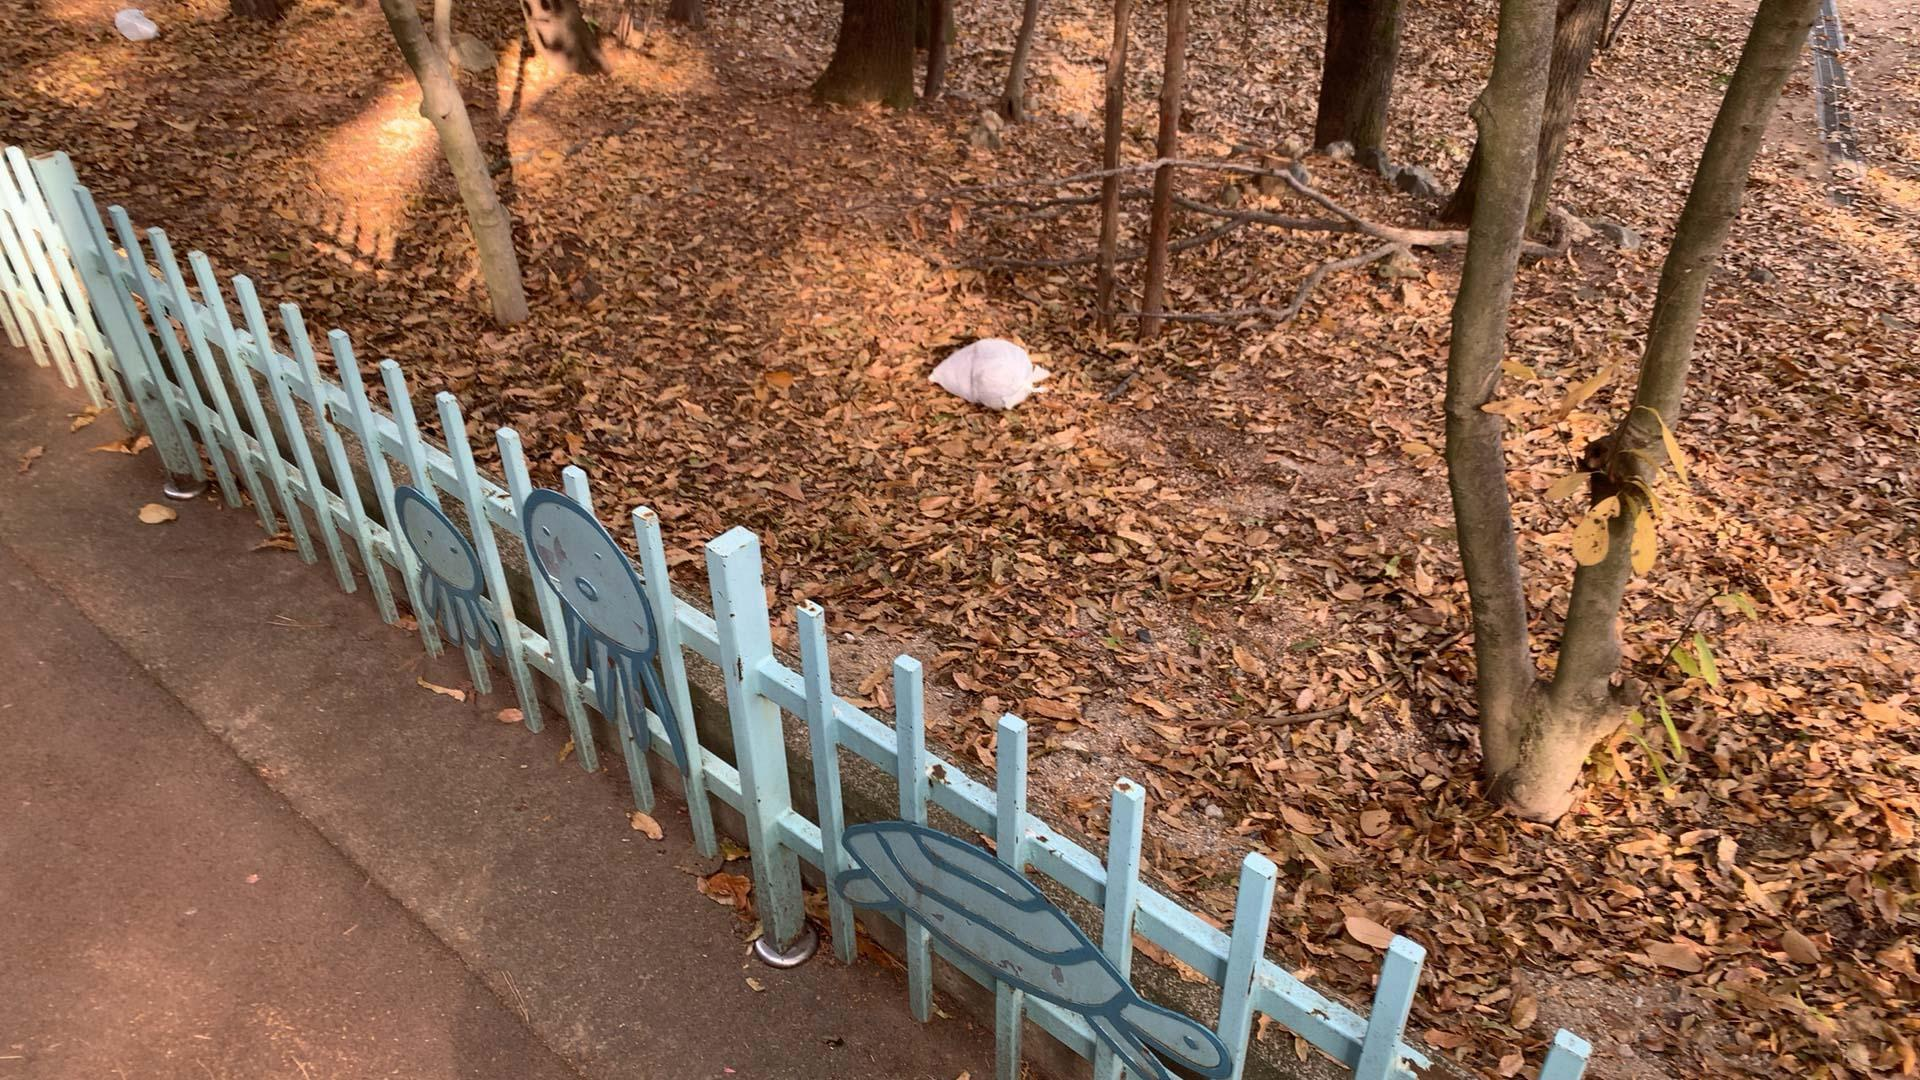white_bag: (924, 336, 1054, 414)
